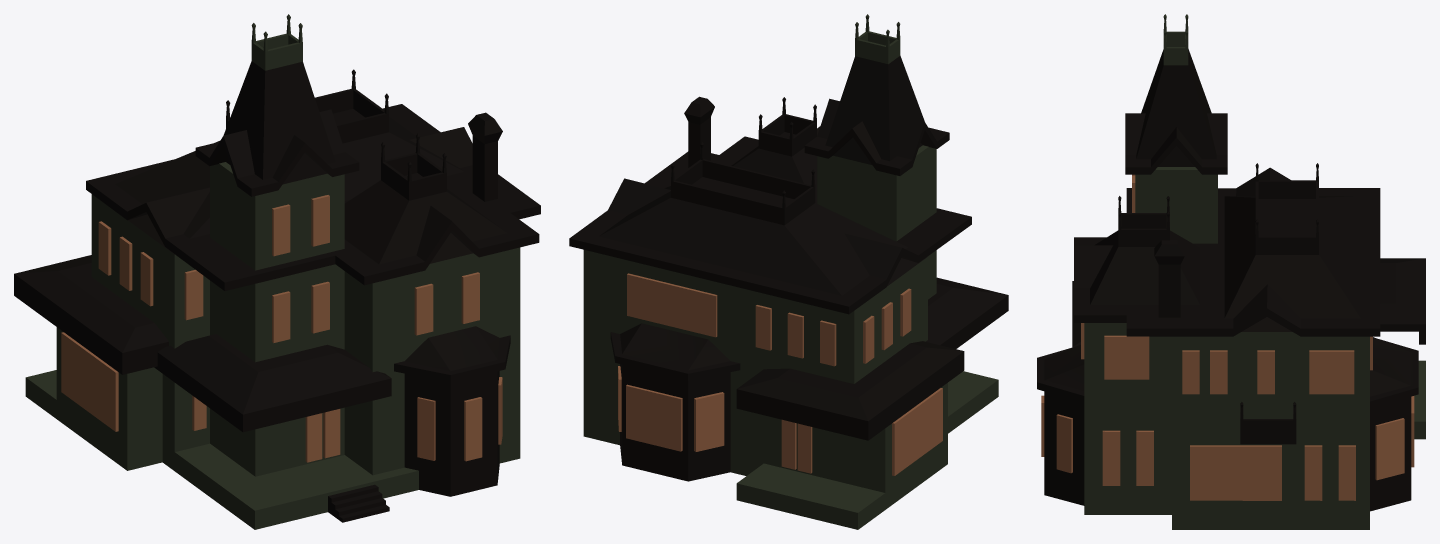
File: casarao.fbx
The picture shows the model from 3 angles, left to right: view 1: azimuth 30°, elevation 25°; view 2: azimuth 150°, elevation 25°; view 3: azimuth 270°, elevation 25°; orthographic projection. The views are drawn at different scales.
Parts seen in each view (by area): view 1: casa2; view 2: casa2; view 3: casa2.
Boxes of the visible parts, bbox=[...] form: casa2: bbox=[14, 14, 540, 529]; casa2: bbox=[569, 14, 1008, 529]; casa2: bbox=[1037, 14, 1425, 529].
Size of the model in its own units: 1285 by 1417 by 1226.
